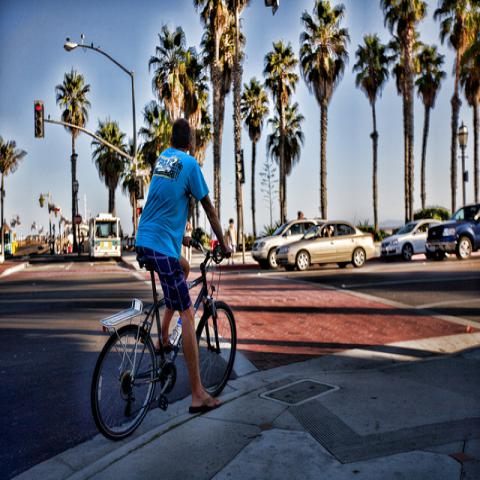bus: (87, 213, 122, 261)
car: (275, 220, 375, 271), (253, 219, 327, 268), (380, 218, 444, 260)
truck: (424, 202, 480, 260)
